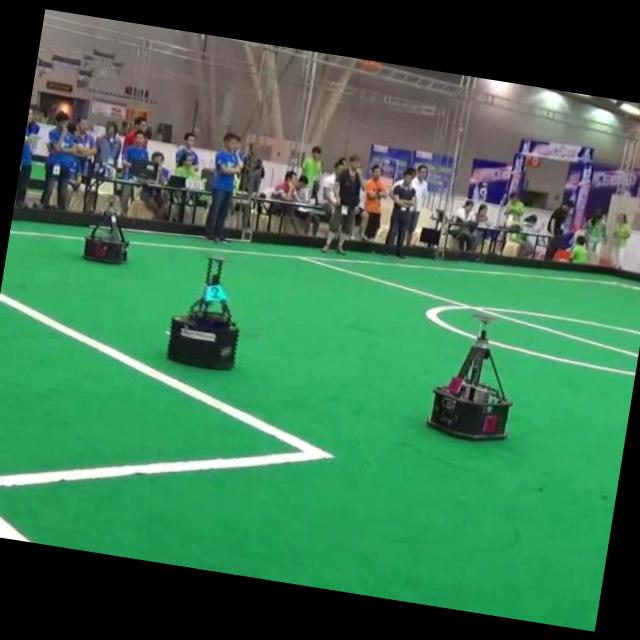robot: (428, 315, 512, 439), (167, 256, 238, 368), (83, 195, 129, 263)
